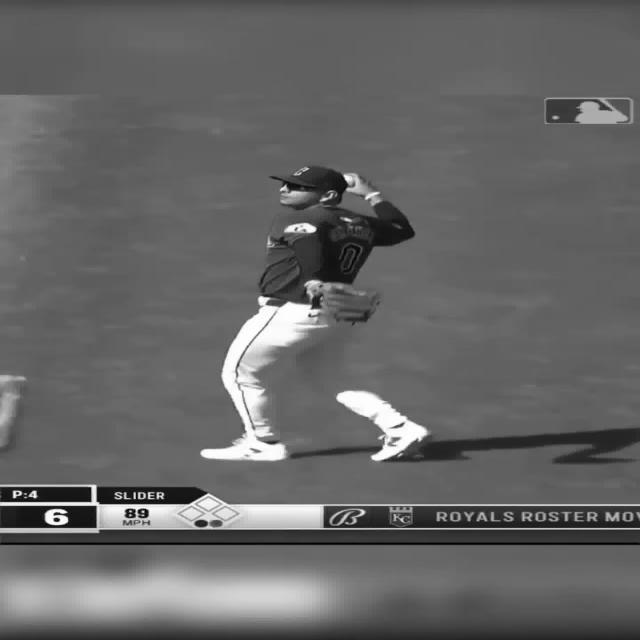baseball: (342, 173, 356, 187)
baseball_glove: (304, 279, 380, 322)
shoe: (370, 418, 430, 462), (199, 437, 288, 461)
